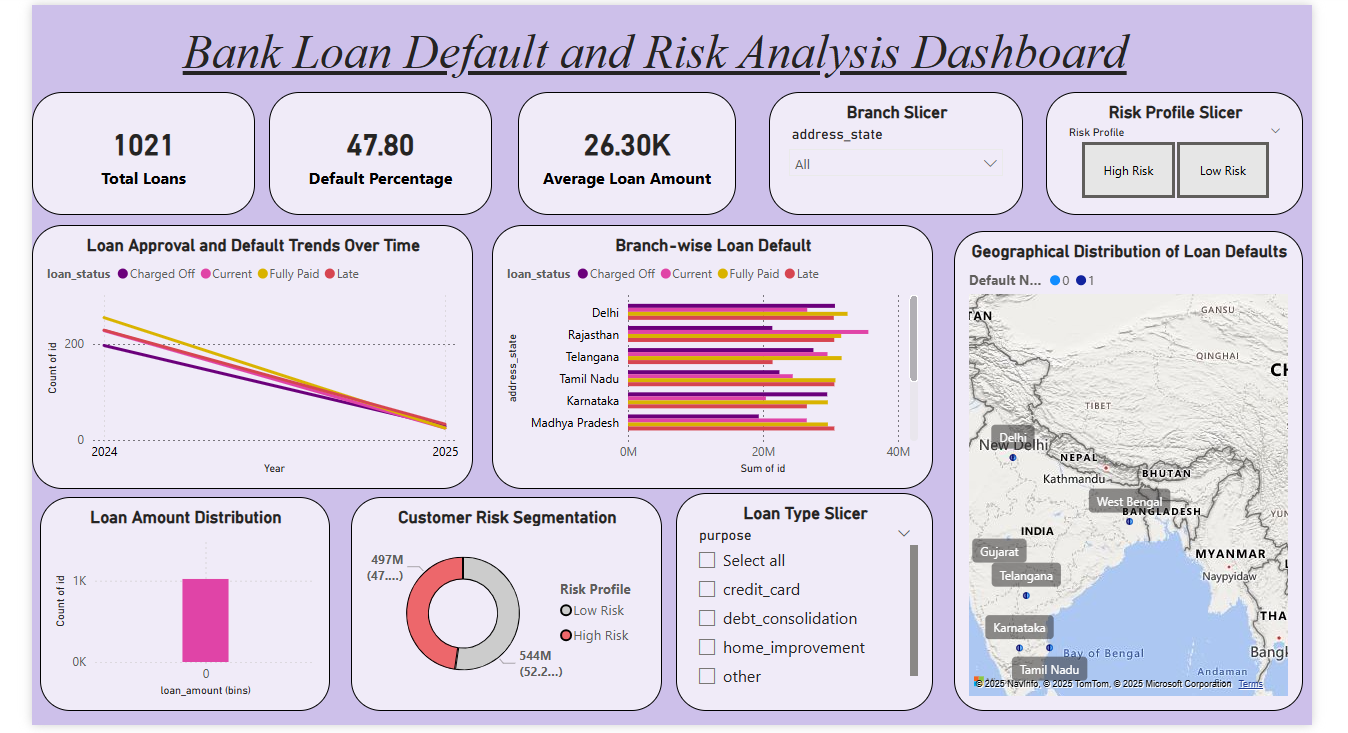

What the dashboard file says about the page in this screenshot:
{"tool":"powerbi","page":{"name":"Page 1","canvas":[1280,720],"ordinal":0},"visuals":[{"type":"clusteredBarChart","title":"Branch-wise Loan Default","fields":{"Category":["Sheet1.address_state"],"Y":["Sum(Sheet1.id)"],"Series":["Sheet1.loan_status"]},"box":[460,220,441.1,264.4],"z":0},{"type":"donutChart","title":"Customer Risk Segmentation","fields":{"Category":["Sheet1.Risk Profile"],"Y":["Sum(Sheet1.id)"]},"box":[318.9,492.2,311.1,213.3],"z":1000},{"type":"clusteredColumnChart","title":"Loan Amount Distribution ","fields":{"Category":["Sheet1.loan_amount (bins)"],"Y":["CountNonNull(Sheet1.id)"]},"box":[7.8,492.2,290,213.3],"z":2000},{"type":"card","fields":{"Values":["Sheet1.Total Loans"]},"box":[0,86.7,223.3,123.3],"z":3000},{"type":"card","fields":{"Values":["Sheet1.Default Percentage"]},"box":[236.7,86.7,223.3,123.3],"z":4000},{"type":"card","fields":{"Values":["Sheet1.Average Loan Amount"]},"box":[485.6,86.7,218.9,123.3],"z":5000},{"type":"lineChart","title":"Loan Approval and Default Trends Over Time ","fields":{"Category":["Sheet1.issue_date.Variation.Date Hierarchy.Year"],"Y":["CountNonNull(Sheet1.id)"],"Series":["Sheet1.loan_status"]},"box":[0,220,441.1,264.4],"z":6000},{"type":"slicer","title":"Loan Type Slicer","fields":{"Values":["Sheet1.purpose"]},"box":[644.4,487.8,256.7,217.8],"z":7000},{"type":"slicer","title":"Branch Slicer ","fields":{"Values":["Sheet1.address_state"]},"box":[736.7,86.7,254.4,123.3],"z":8000},{"type":"slicer","title":"Risk Profile Slicer","fields":{"Values":["Sheet1.Risk Profile"]},"box":[1014.4,86.7,256.7,123.3],"z":9000},{"type":"map","title":"Geographical Distribution of Loan Defaults ","fields":{"Category":["Sheet1.address_state"],"Series":["Sheet1.Default Numeric"]},"box":[922.2,225.6,348.9,480],"z":10000},{"type":"textbox","box":[26.7,0,1206.7,101.1],"z":11000}]}

Visuals, with their boxes in screenshot pixels (x1, y1, x2, y2):
"Branch-wise Loan Default" clusteredBarChart: pyautogui.locateOnScreen(487, 221, 930, 487)
"Customer Risk Segmentation" donutChart: pyautogui.locateOnScreen(345, 495, 658, 709)
"Loan Amount Distribution " clusteredColumnChart: pyautogui.locateOnScreen(32, 495, 324, 709)
card - Sheet1.Total Loans: pyautogui.locateOnScreen(25, 87, 249, 211)
card - Sheet1.Default Percentage: pyautogui.locateOnScreen(262, 87, 487, 211)
card - Sheet1.Average Loan Amount: pyautogui.locateOnScreen(513, 87, 733, 211)
"Loan Approval and Default Trends Over Time " lineChart: pyautogui.locateOnScreen(25, 221, 468, 487)
"Loan Type Slicer" slicer: pyautogui.locateOnScreen(672, 490, 930, 709)
"Branch Slicer " slicer: pyautogui.locateOnScreen(765, 87, 1021, 211)
"Risk Profile Slicer" slicer: pyautogui.locateOnScreen(1044, 87, 1302, 211)
"Geographical Distribution of Loan Defaults " map: pyautogui.locateOnScreen(951, 227, 1302, 709)
textbox: pyautogui.locateOnScreen(51, 0, 1264, 102)
